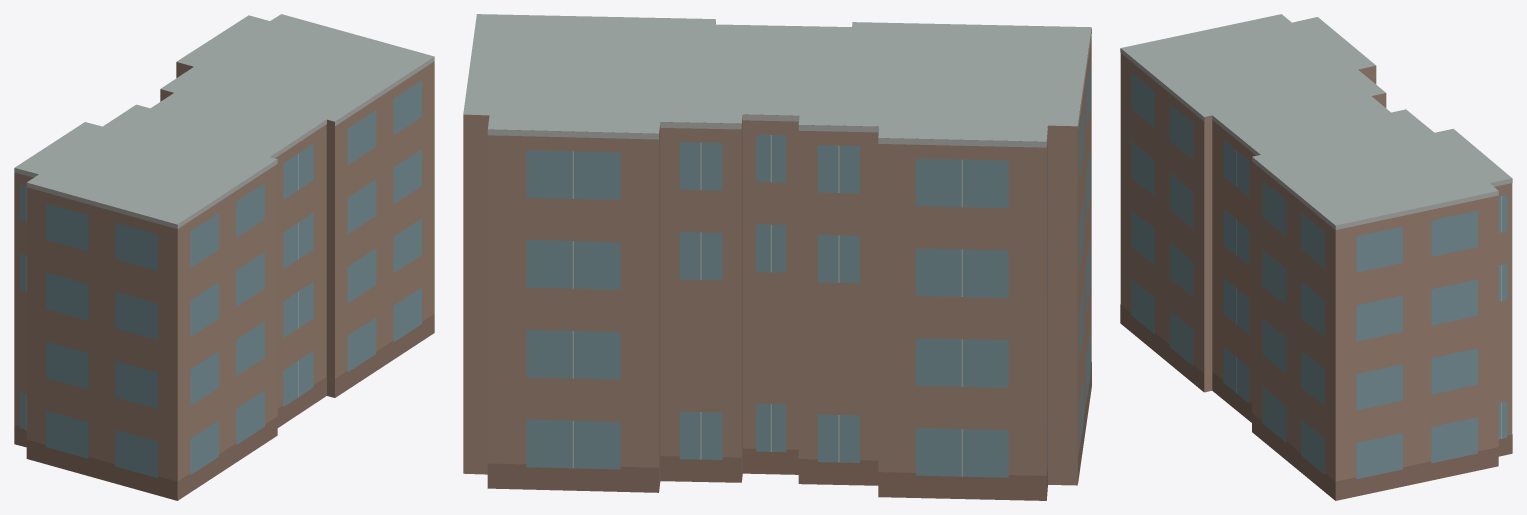
Rendered from survey-upis-32840231.glb.
3 renders of one model, left to right at view 1: azimuth 30°, elevation 25°; view 2: azimuth 150°, elevation 25°; view 3: azimuth 270°, elevation 25°, orthographic. The views are drawn at different scales.
Visible parts, largest first — view 1: survey-upis-32840231.tmp; view 2: survey-upis-32840231.tmp; view 3: survey-upis-32840231.tmp.
Boxes of the visible parts, <box> form: survey-upis-32840231.tmp: <box>14,14,434,500</box>; survey-upis-32840231.tmp: <box>463,14,1091,500</box>; survey-upis-32840231.tmp: <box>1120,14,1512,500</box>.
Bounding box in the file's own units: 24.1 × 14.62 × 18.88.
